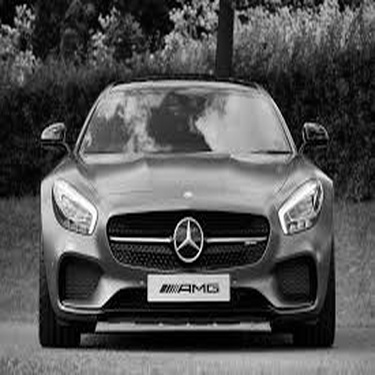car: (32, 74, 348, 346)
